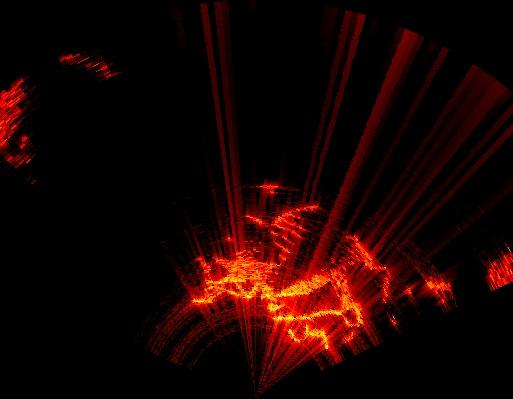shipwreck: (193, 236, 384, 349), (227, 206, 318, 288)
